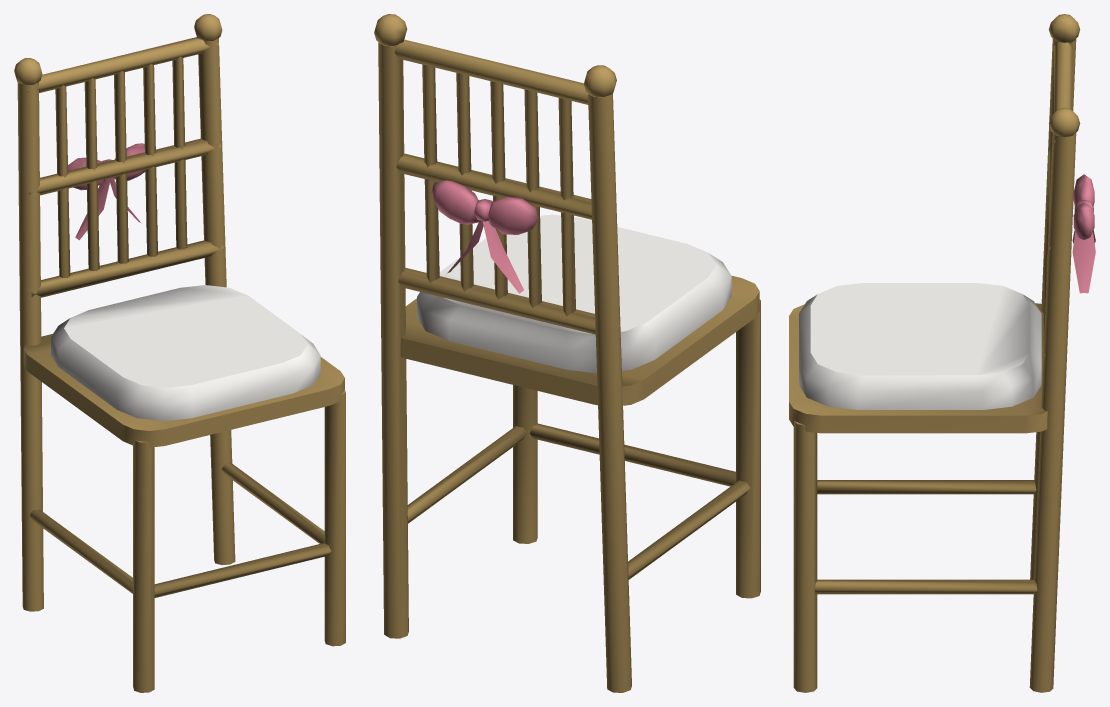
The model's file is ghe-chiavari.glb.
3 views of the same model, side by side, from view 1: azimuth 30°, elevation 25°; view 2: azimuth 150°, elevation 25°; view 3: azimuth 270°, elevation 25° (orthographic). The views are drawn at different scales.
Visible parts, largest first — view 1: ghe-chiavari; view 2: ghe-chiavari; view 3: ghe-chiavari.
Boxes of the visible parts, x1=… form: ghe-chiavari: x1=14, y1=14, x2=345, y2=692; ghe-chiavari: x1=374, y1=14, x2=760, y2=692; ghe-chiavari: x1=789, y1=14, x2=1095, y2=692.
Size of the model in its own units: 0.41 by 0.9697 by 0.4678.
